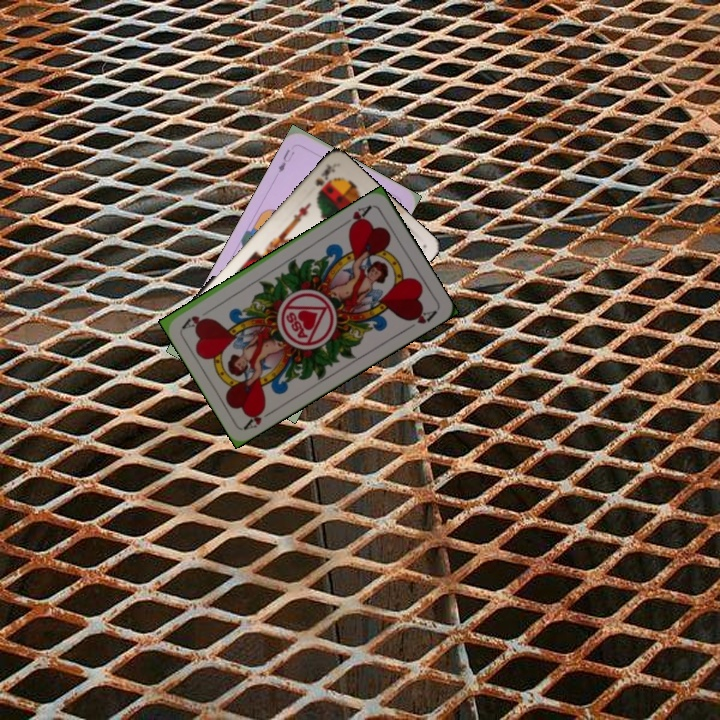EU: (274, 145, 297, 175)
HA: (241, 402, 278, 432), (345, 201, 374, 232)
SK: (311, 160, 338, 196)
